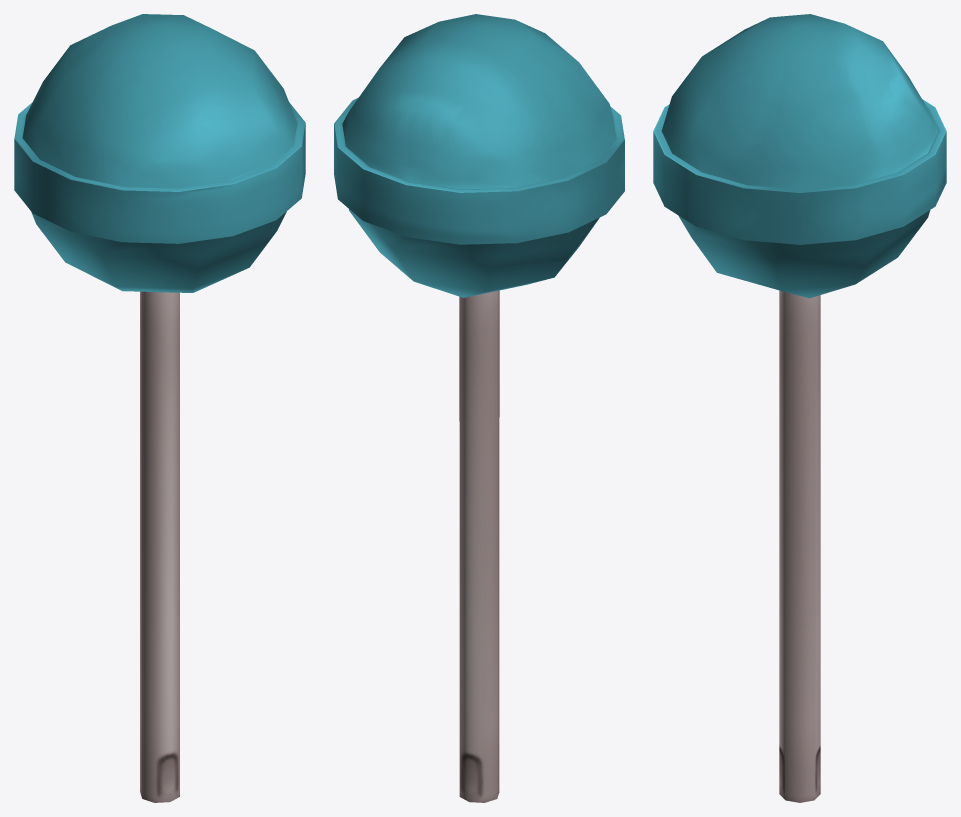
Rendered from lollipopblue.fbx.
3 views of the same model, side by side, from view 1: azimuth 30°, elevation 25°; view 2: azimuth 150°, elevation 25°; view 3: azimuth 270°, elevation 25° (orthographic).
Parts seen in each view (by area): view 1: lollipopblue; view 2: lollipopblue; view 3: lollipopblue.
Boxes of the visible parts, x1,y1,x2,y2 form: lollipopblue: (14,14,305,802); lollipopblue: (334,14,624,802); lollipopblue: (653,14,946,802).
Size of the model in its own units: 7.52 by 21.74 by 7.52.
